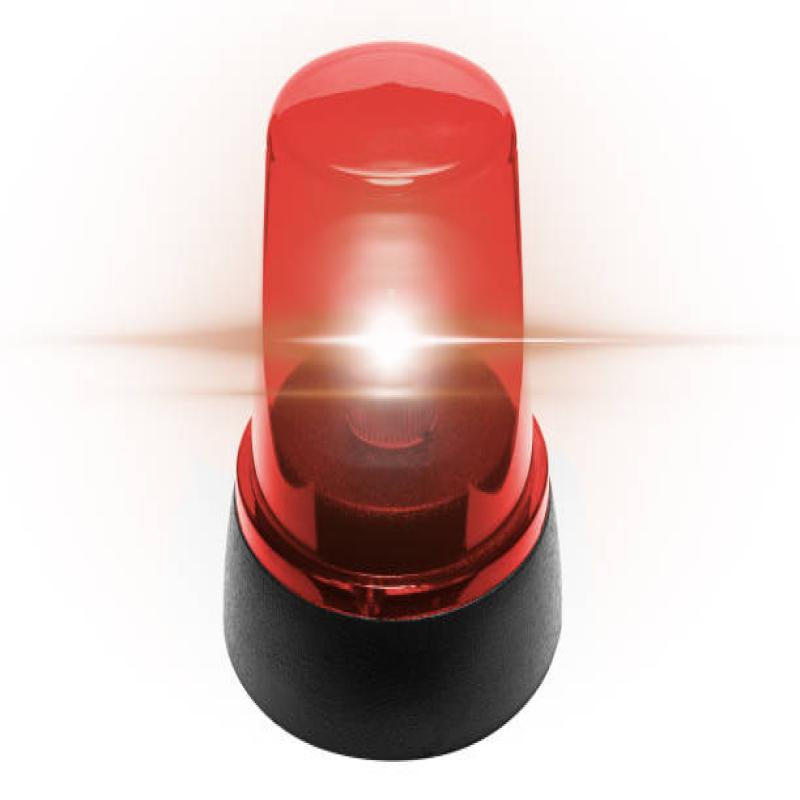AmbulanceSiren: (190, 13, 577, 794)
